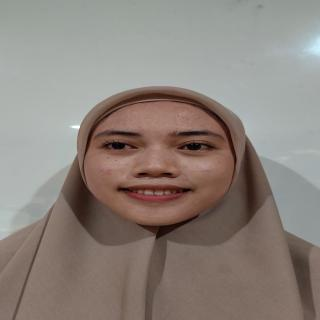Senang: (77, 93, 240, 234)
